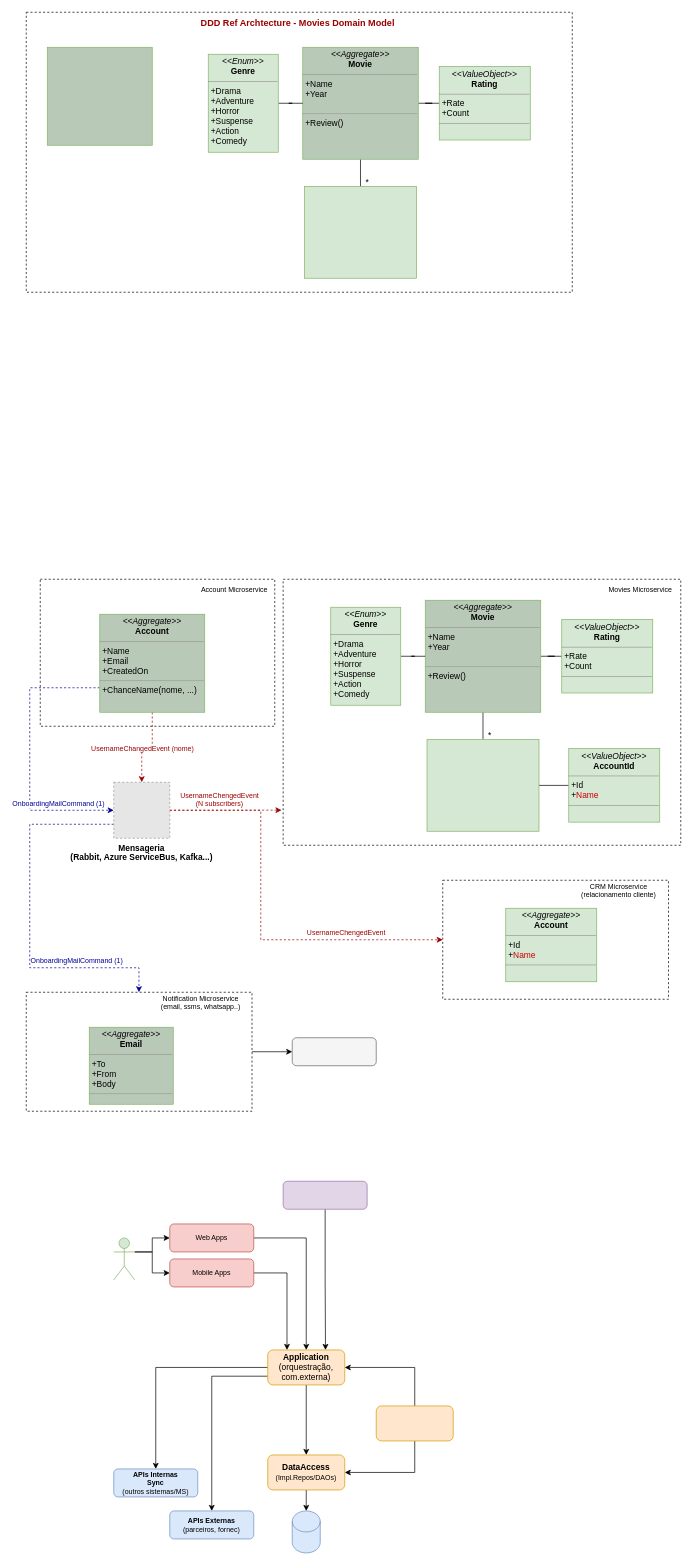
Image size: 693x1565. Some labels were removed from this diagram. Grey dashed boxes stand in for pictures. Each missing label, with the box of its shape:
<<Aggregate>> Account +Name +Email +CreatedOn: (47, 47, 152, 145)
<<Entity>> Review +Rate: double +AccountId +Comments +OccurredOn: (304, 186, 416, 278)
<<Entity>> Review +Rate: double +Comments +OccurredOn: (426, 739, 539, 831)
BD: (292, 1510, 320, 1553)
Cliente: (113, 1237, 135, 1280)
Domain (regras negócio): (376, 1405, 453, 1441)
Email Provider: (292, 1037, 376, 1066)
Mensageria Async (event bus): (282, 1181, 367, 1209)
